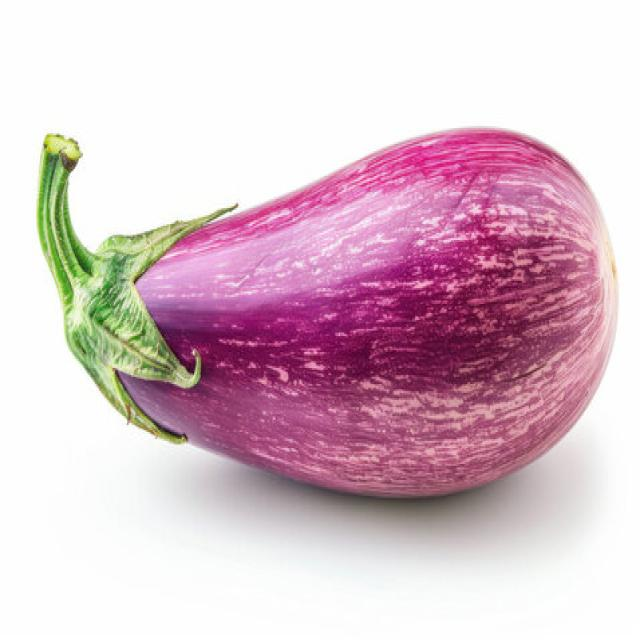Eggplant: (38, 118, 622, 496)
